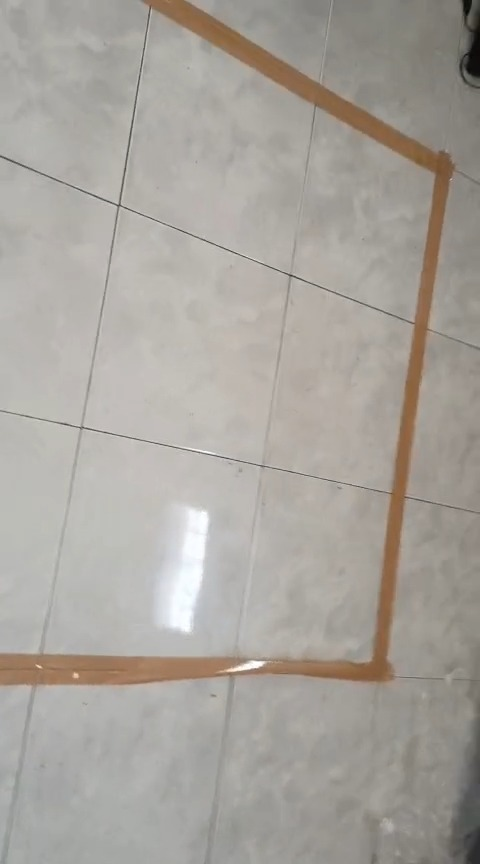floor marking: (0, 0, 453, 685)
